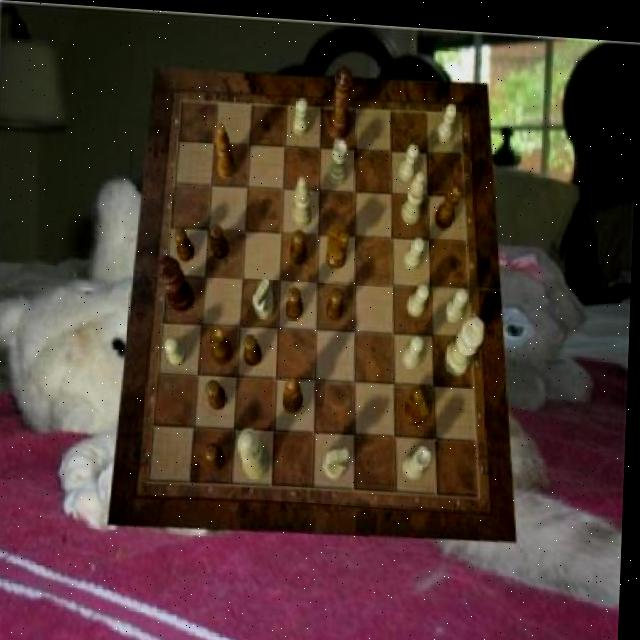bishop: (215, 121, 237, 176), (285, 373, 307, 411)
black-bishop: (159, 253, 198, 311)
black-king: (328, 219, 351, 264), (407, 382, 433, 421)
black-knight: (210, 221, 231, 256), (176, 225, 197, 260), (209, 376, 231, 408), (244, 330, 264, 364), (328, 282, 346, 318), (288, 283, 306, 318), (291, 225, 309, 260), (207, 441, 229, 469)
black-pawn: (329, 61, 354, 136)
black-queen: (435, 177, 463, 224), (210, 324, 236, 363)
black-rook: (402, 164, 426, 220), (294, 173, 314, 223)
white-bishop: (445, 309, 487, 372)
white-king: (253, 274, 277, 317), (327, 441, 352, 476)
white-knight: (436, 97, 458, 138), (398, 138, 420, 177), (446, 281, 470, 316), (405, 329, 427, 364), (409, 277, 431, 312), (404, 231, 426, 266), (293, 92, 310, 132), (166, 335, 189, 364)
white-pawn: (240, 424, 274, 476)
white-queen: (406, 439, 434, 475), (328, 134, 349, 181)
